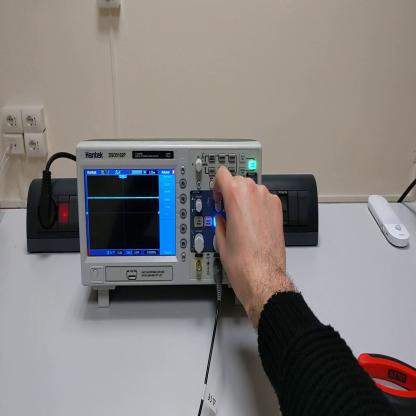hand: (213, 166, 290, 313)
oscilloscope: (76, 137, 263, 307)
pliers: (359, 354, 416, 416)
socket: (23, 176, 81, 254)
